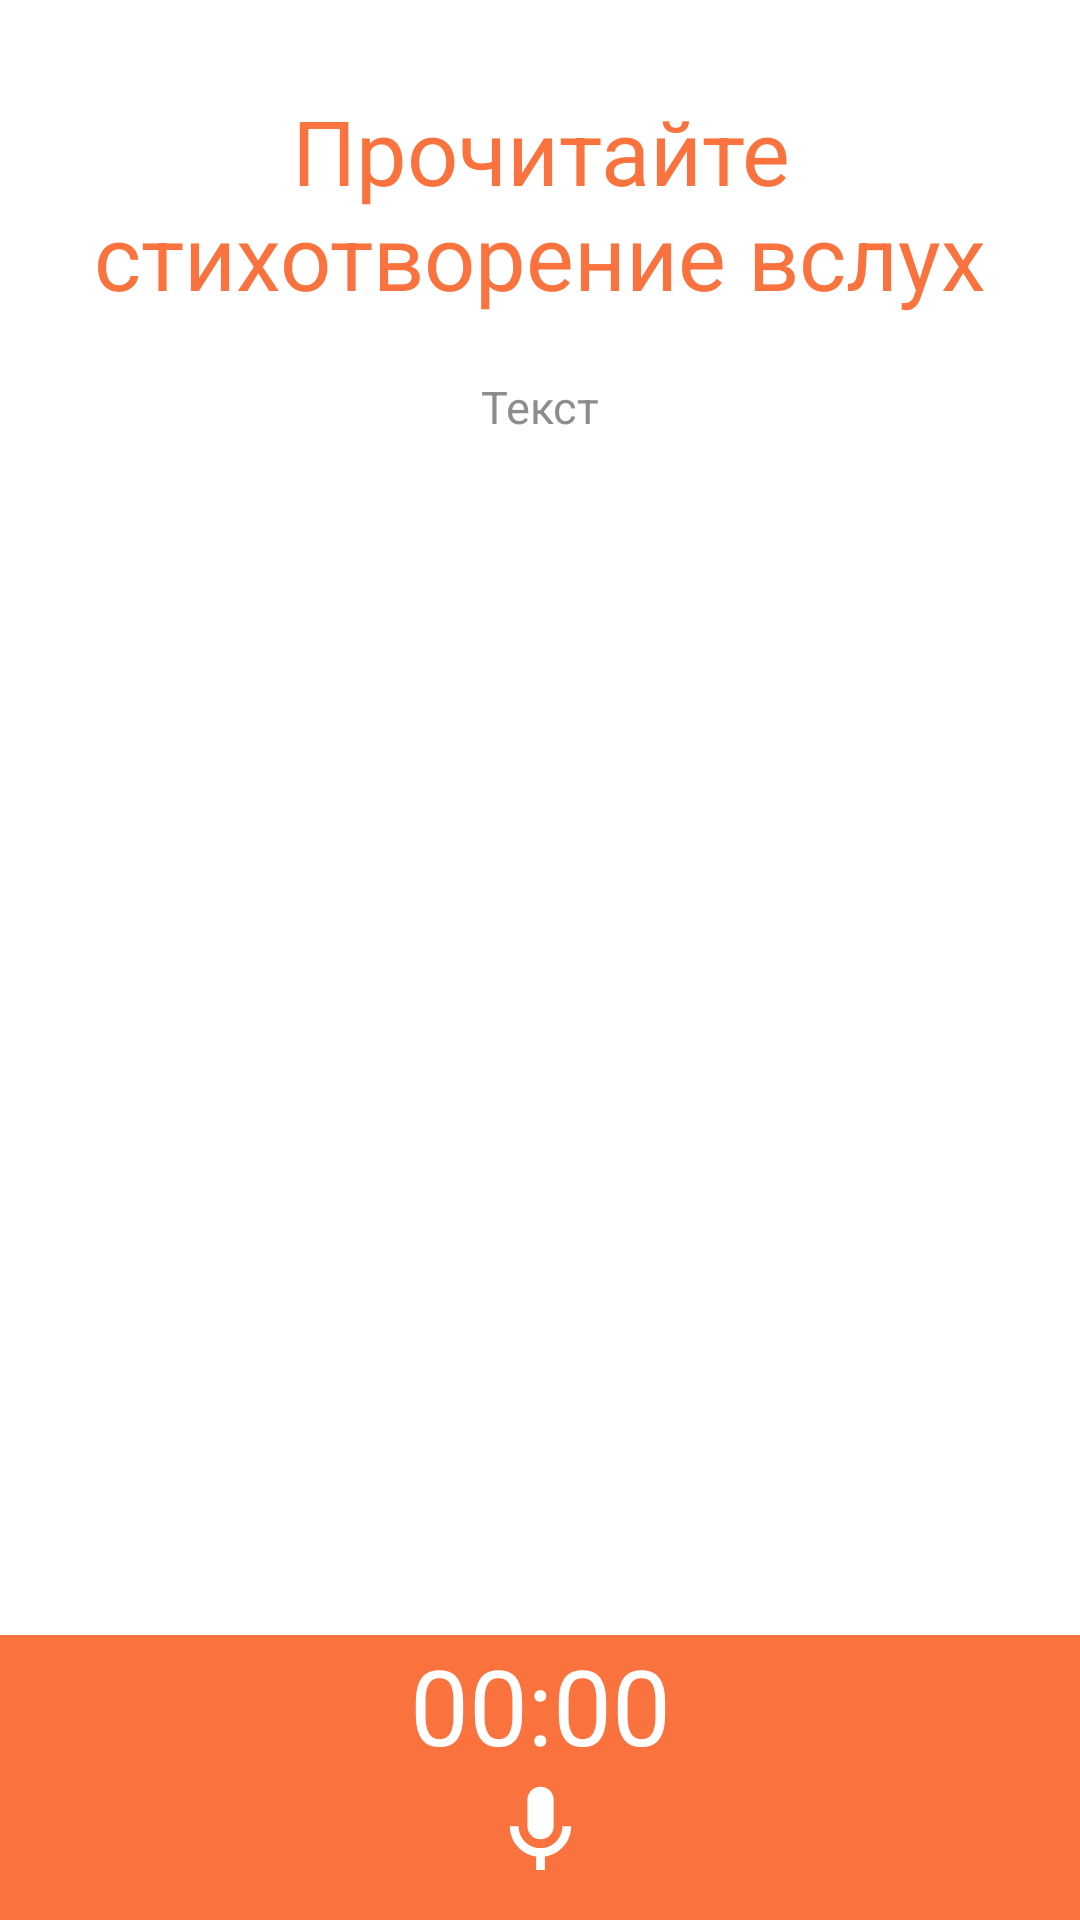

Screen size 1080x1920. Icon name, then its box in pixels as region(x1, y1, x2, y2):
record: region(510, 1786, 571, 1870)
